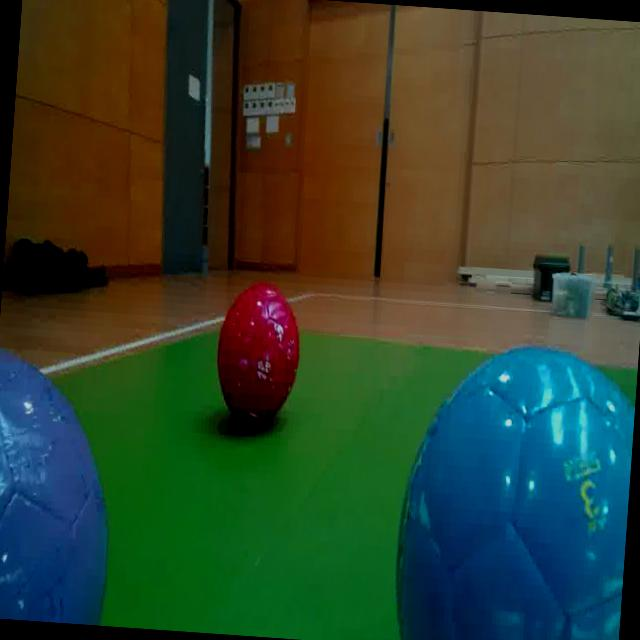blue_ball: (378, 327, 639, 640)
purple_ball: (0, 343, 122, 625)
red_ball: (210, 278, 310, 432)
